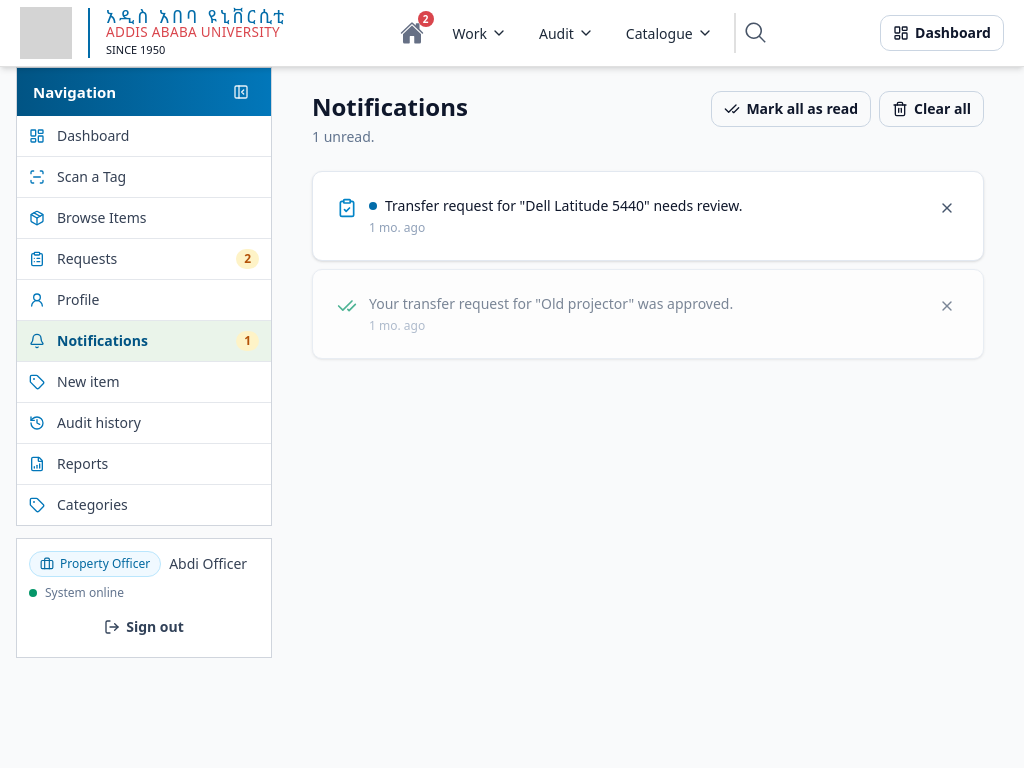
Test: /notifications — clear all › asks first, naming what goes, and only then empties the inbox
Expected: the heading "Notifications" is shown, x1=312 y1=91 x2=468 y2=123
Expected: the text "Transfer request for \"Dell Latitude 5440\" needs review." is shown, x1=385 y1=196 x2=742 y2=216
Click the button "Clear all": point(932, 109) x1=879 y1=91 x2=984 y2=127
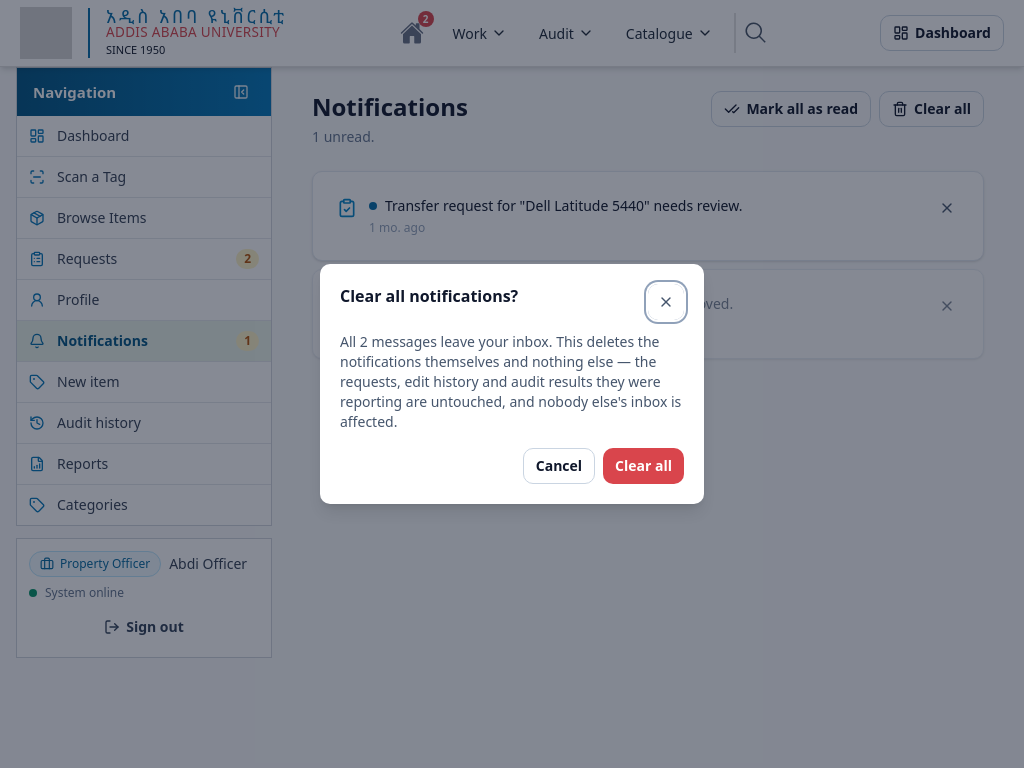
Expected: the text "2 messages leave your inbox" is shown, x1=340 y1=332 x2=684 y2=432
Click the button "Clear all": point(644, 466) x1=603 y1=448 x2=684 y2=484
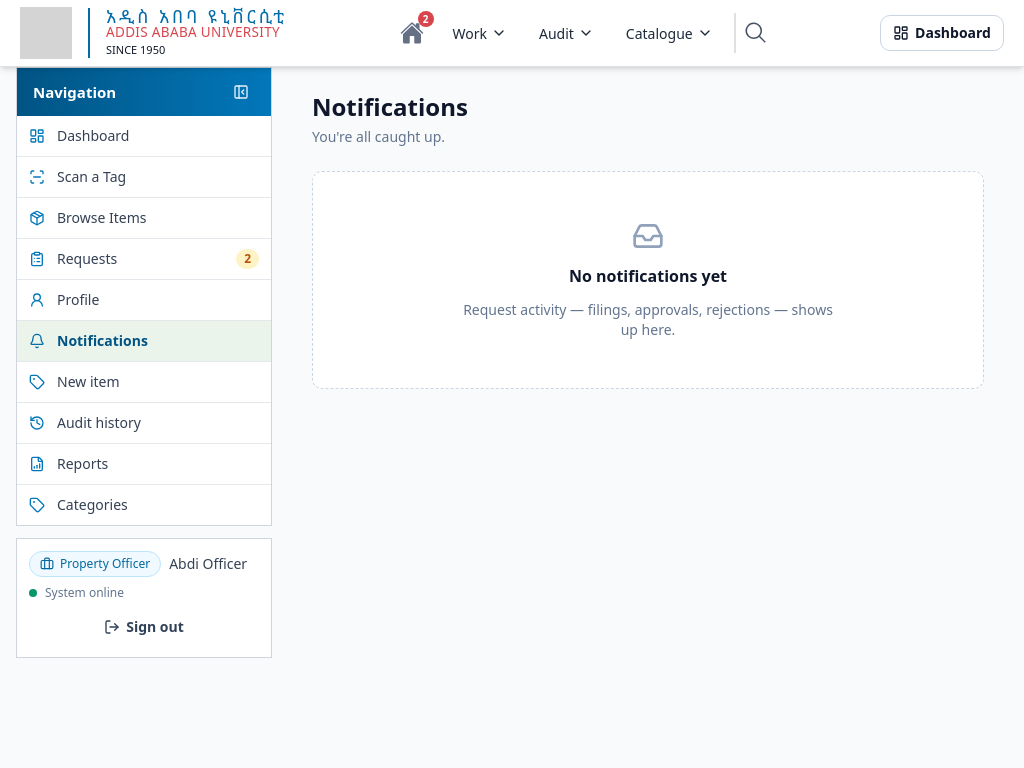
Expected: the heading "No notifications yet" is shown, x1=569 y1=264 x2=727 y2=288
Expected: the button "Mark all as read" is gone
